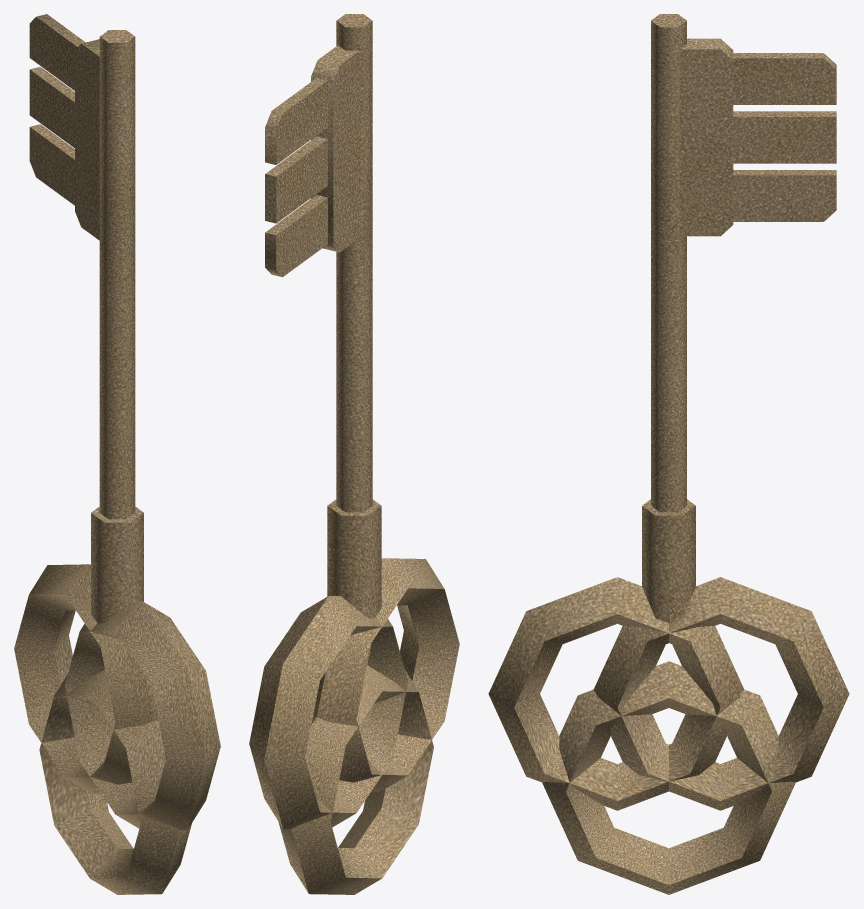
File: key.glb
3 renders of one model, left to right at view 1: azimuth 30°, elevation 25°; view 2: azimuth 150°, elevation 25°; view 3: azimuth 270°, elevation 25°, orthographic.
Visible parts, largest first — view 1: Torus; view 2: Torus; view 3: Torus.
Boxes of the visible parts, box(x1,y1,x2,y2) form: Torus: box(14, 14, 220, 894); Torus: box(249, 14, 459, 894); Torus: box(488, 14, 849, 894).
Size of the model in its own units: 0.5 by 7.48 by 2.8.
1 material, 1 textured.
